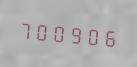nine: (69, 20, 85, 48)
seven: (17, 15, 33, 43)
six: (103, 23, 119, 51)
zero: (34, 17, 50, 45), (52, 18, 68, 46), (86, 21, 102, 49)
